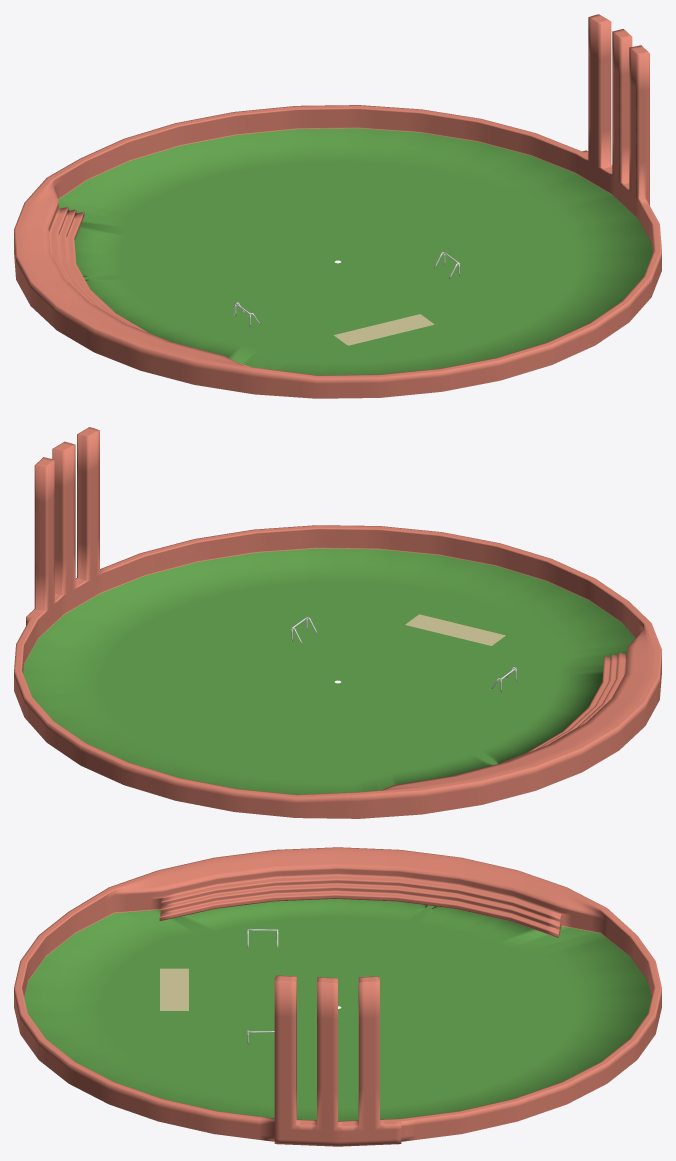
File: field.fbx
3 views of the same model, one above another, from view 1: azimuth 30°, elevation 25°; view 2: azimuth 150°, elevation 25°; view 3: azimuth 270°, elevation 25° (orthographic).
Visible parts, largest first — view 1: Circle; view 2: Circle; view 3: Circle.
Part boxes in pixels (bbox=[...]): Circle: bbox=[14, 14, 661, 398]; Circle: bbox=[14, 427, 661, 818]; Circle: bbox=[14, 847, 661, 1146].
Size of the model in its own units: 31.71 by 8.77 by 31.46.
